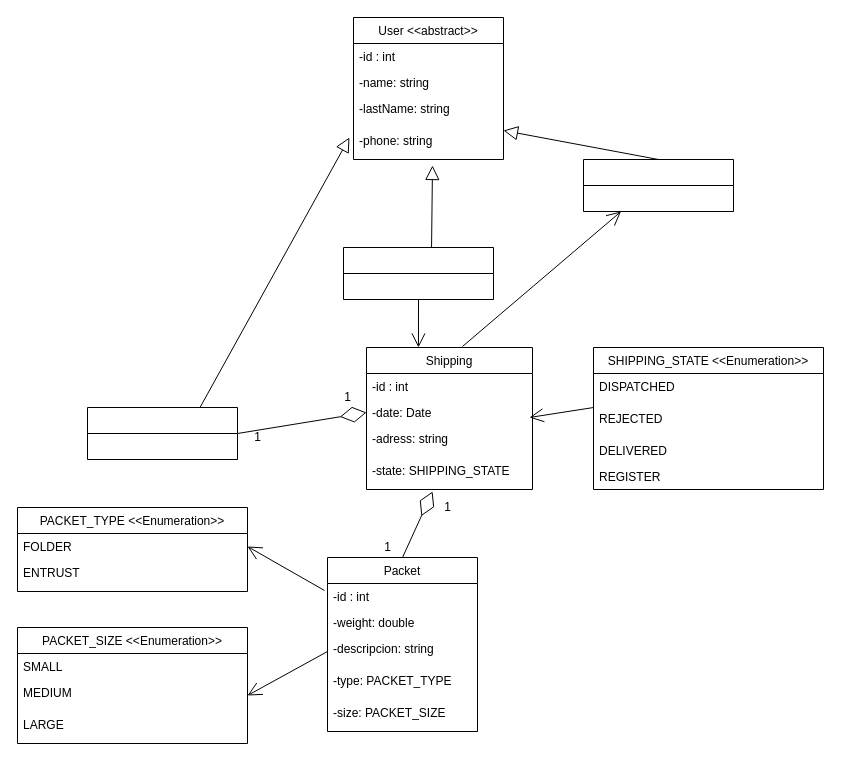
Image size: 841x764. Some labels were removed from this diagram. Here are the shapes that lost their labels. From the top down, the centre of each, then its label:
At pixel 658 185: "Courier".
At pixel 418 273: "Dispatcher".
At pixel 162 433: "Receiver".
